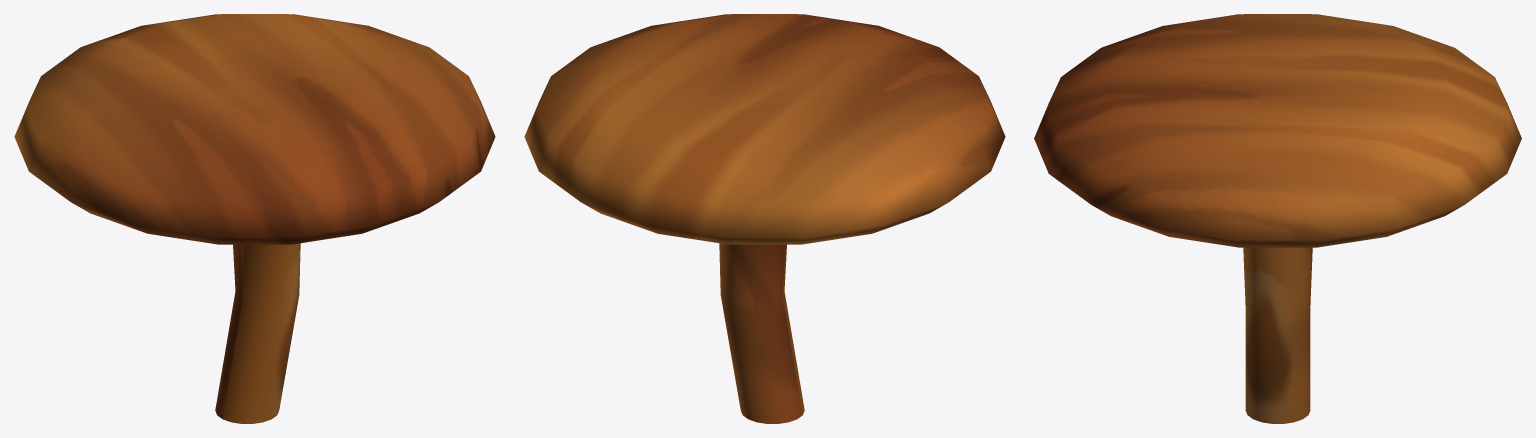
The model's file is Enviro_Mushroom02.fbx.
3 renders of one model, left to right at view 1: azimuth 30°, elevation 25°; view 2: azimuth 150°, elevation 25°; view 3: azimuth 270°, elevation 25°, orthographic.
Visible parts, largest first — view 1: Sphere001; view 2: Sphere001; view 3: Sphere001.
Boxes of the visible parts, x1,y1,x2,y2 form: Sphere001: [14, 14, 495, 423]; Sphere001: [524, 14, 1005, 423]; Sphere001: [1034, 14, 1521, 423].
Bounding box in the file's own units: 74.27 × 57.22 × 75.41.
